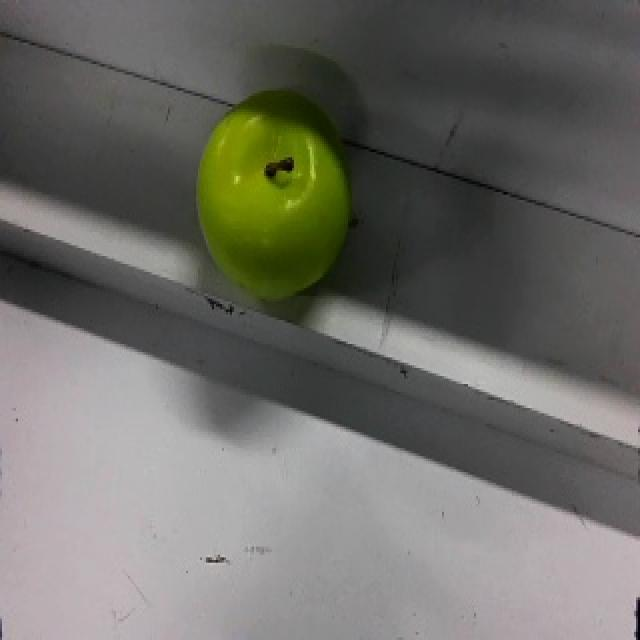apple: (195, 86, 358, 326)
